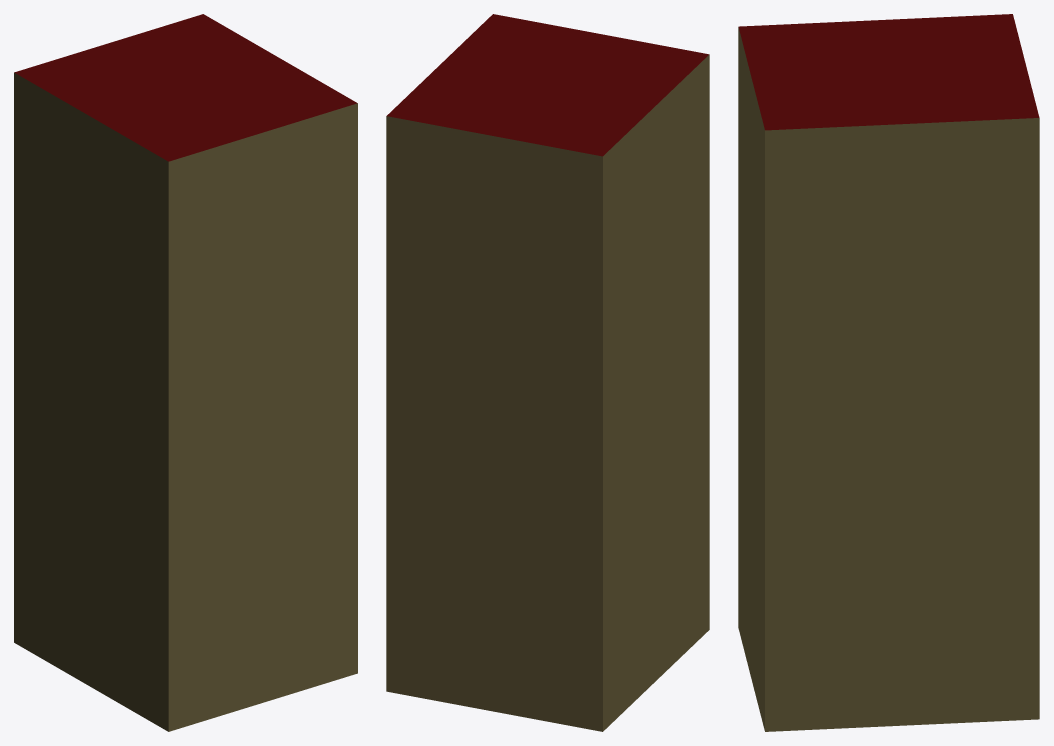
File: Building_Brown_University_Sciences_Library_Export.FBX
The picture shows the model from 3 angles, left to right: view 1: azimuth 30°, elevation 25°; view 2: azimuth 150°, elevation 25°; view 3: azimuth 270°, elevation 25°; orthographic projection. The views are drawn at different scales.
Parts seen in each view (by area): view 1: Building_Brown_University_Sciences_Library_Export; view 2: Building_Brown_University_Sciences_Library_Export; view 3: Building_Brown_University_Sciences_Library_Export.
Part boxes in pixels (x1=…): Building_Brown_University_Sciences_Library_Export: x1=14, y1=14, x2=357, y2=731; Building_Brown_University_Sciences_Library_Export: x1=386, y1=14, x2=709, y2=731; Building_Brown_University_Sciences_Library_Export: x1=738, y1=14, x2=1039, y2=731.
Size of the model in its own units: 8.99 by 21.65 by 9.82.
